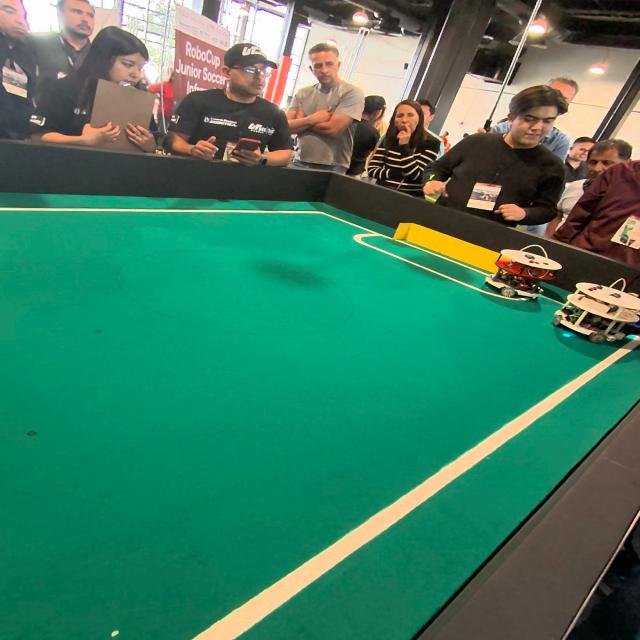Robot: (551, 274, 636, 349), (482, 246, 545, 309)
